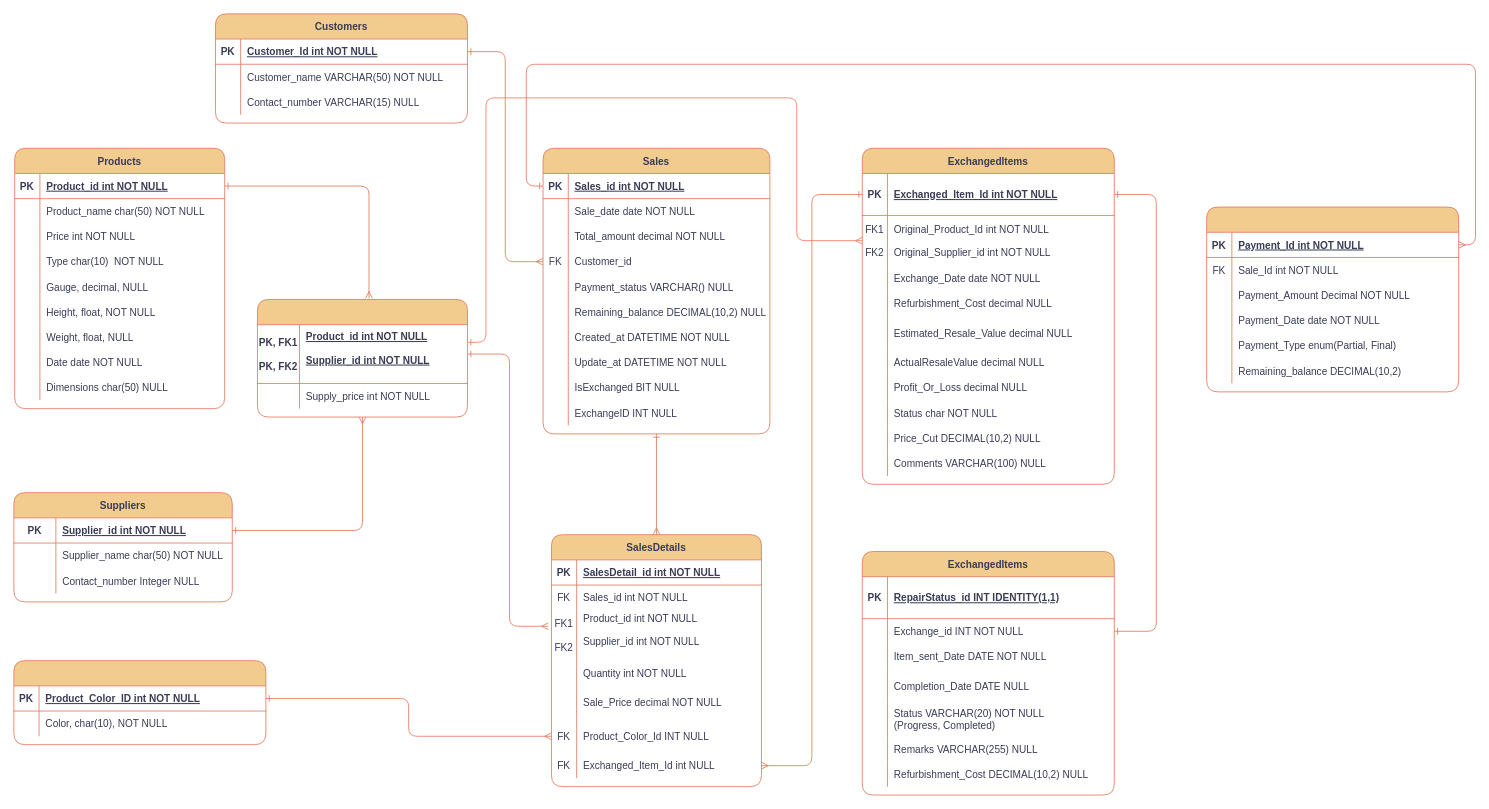
Some shapes in this 1489 by 809 pixel diagram are drawn without their labels. Each missing label, with the box of its shape:
Payments: (1206, 206, 1459, 392)
ProductColors: (13, 660, 266, 745)
Products_Suppliers: (257, 299, 467, 417)
